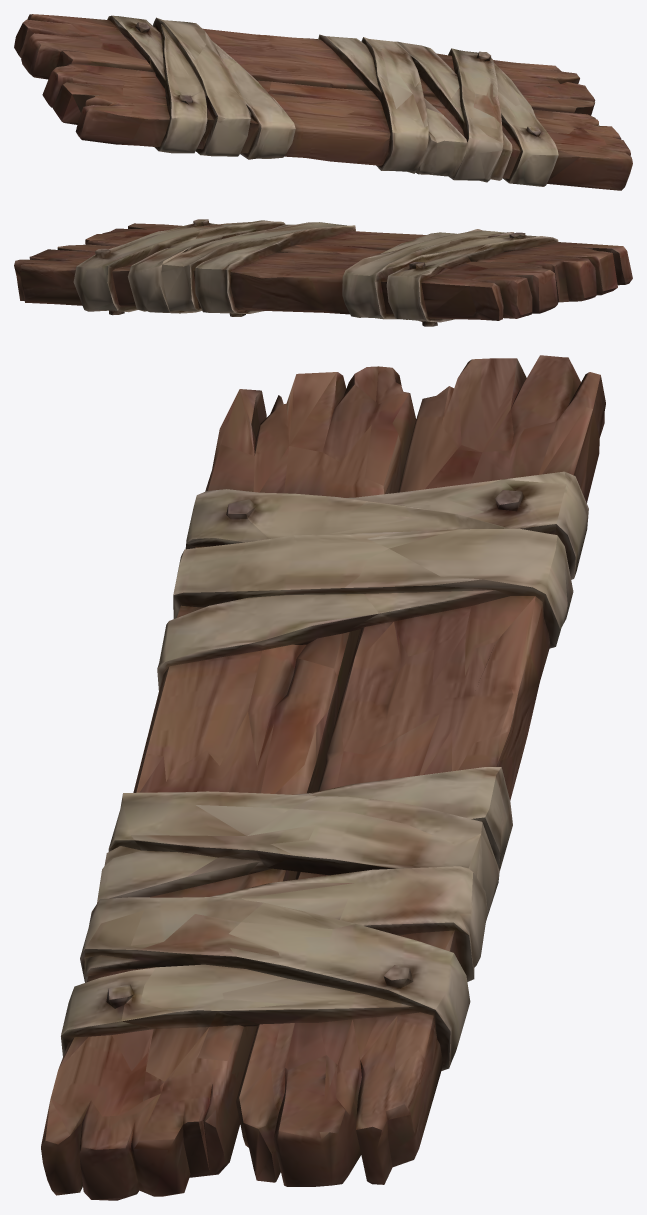
The model's file is splint_gotovaya_idle.glb.
3 renders of one model, top to bottom at view 1: azimuth 30°, elevation 25°; view 2: azimuth 150°, elevation 25°; view 3: azimuth 270°, elevation 25°, orthographic. The views are drawn at different scales.
Visible parts, largest first — view 1: tripo_node_8b66c0ae-f373-4672-9836-19eae1c3aaef; view 2: tripo_node_8b66c0ae-f373-4672-9836-19eae1c3aaef; view 3: tripo_node_8b66c0ae-f373-4672-9836-19eae1c3aaef.
Part boxes in pixels (bbox=[...]): tripo_node_8b66c0ae-f373-4672-9836-19eae1c3aaef: bbox=[14, 14, 632, 190]; tripo_node_8b66c0ae-f373-4672-9836-19eae1c3aaef: bbox=[14, 219, 632, 326]; tripo_node_8b66c0ae-f373-4672-9836-19eae1c3aaef: bbox=[41, 355, 605, 1200].
Size of the model in its own units: 0.3999 by 0.1377 by 0.1844.
1 material, 1 textured.
